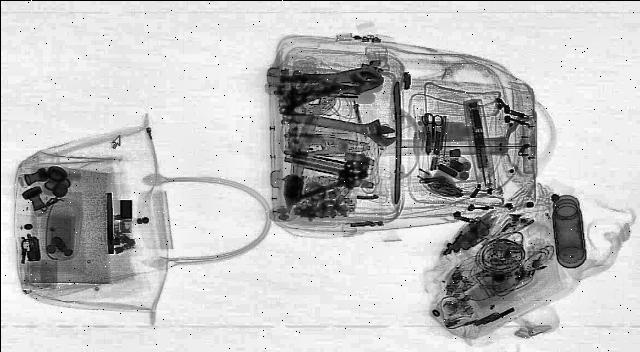Pliers: (278, 64, 388, 98), (288, 134, 370, 156)
Wrench: (278, 103, 410, 147)
